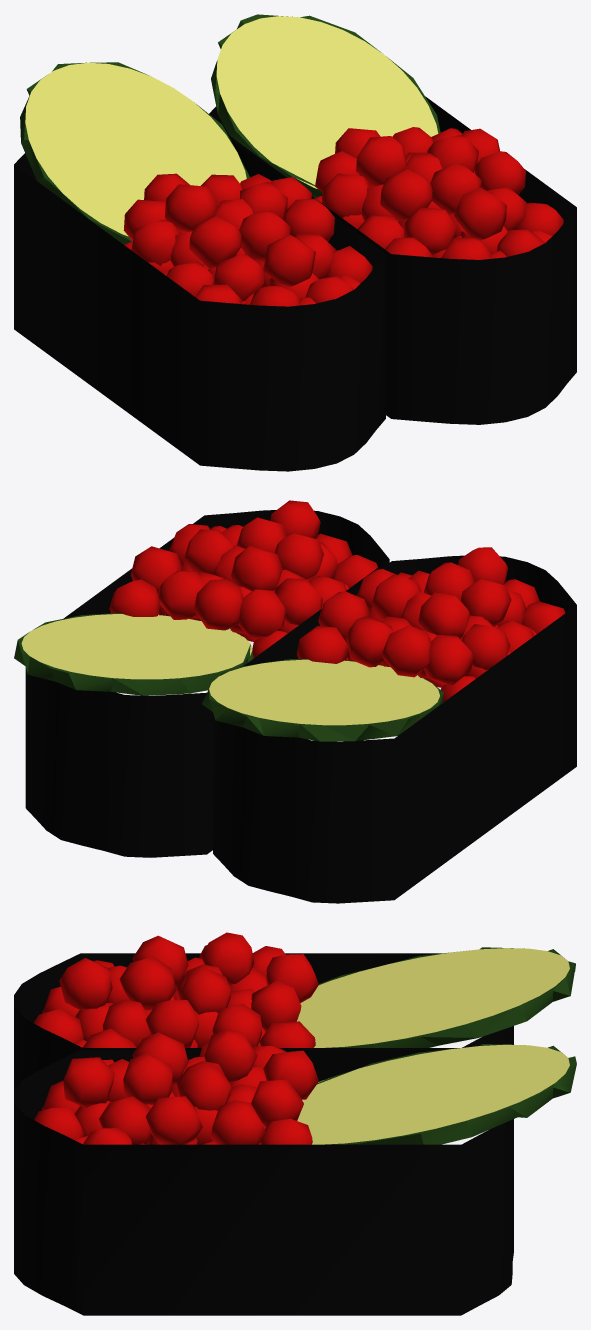
Rendered from ikura.fbx.
3 renders of one model, top to bottom at view 1: azimuth 30°, elevation 25°; view 2: azimuth 150°, elevation 25°; view 3: azimuth 270°, elevation 25°, orthographic. The views are drawn at different scales.
Visible parts, largest first — view 1: nori_1, nori_2, cucumber_1, cucumber_2, roe_79, cucumber_skin_2, roe_32, roe_45, roe_92, roe_46, roe_93, cucumber_skin_1 (+34 smaller); view 2: nori_1, nori_2, cucumber_1, cucumber_2, cucumber_skin_1, cucumber_skin_2, roe_89, roe_42, roe_44, roe_91, roe_93, roe_46 (+26 smaller); view 3: nori_2, cucumber_1, cucumber_2, nori_1, cucumber_skin_2, cucumber_skin_1, roe_85, roe_36, roe_32, roe_79, roe_83, roe_87 (+30 smaller).
Boxes of the visible parts, x1,y1,x2,y2 form: nori_1: (14, 141, 385, 471); nori_2: (209, 96, 576, 424); cucumber_1: (25, 62, 246, 236); cucumber_2: (216, 16, 438, 188); roe_79: (454, 187, 506, 240); cucumber_skin_2: (211, 14, 440, 197); roe_32: (263, 235, 315, 287); roe_45: (189, 216, 241, 267); roe_92: (380, 169, 432, 221); roe_46: (165, 184, 217, 232); roe_93: (356, 136, 406, 186); cucumber_skin_1: (20, 62, 249, 244); nori_1: (213, 555, 576, 903); nori_2: (25, 510, 389, 857); cucumber_1: (209, 659, 439, 725); cucumber_2: (21, 614, 252, 679); cucumber_skin_1: (201, 659, 443, 741); cucumber_skin_2: (14, 613, 253, 695); roe_89: (194, 579, 242, 630); roe_42: (381, 625, 431, 677); roe_44: (423, 635, 473, 685); roe_91: (238, 589, 286, 638); roe_93: (231, 546, 282, 590); roe_46: (418, 592, 470, 638); nori_2: (14, 1050, 513, 1315); cucumber_1: (297, 948, 569, 1047); cucumber_2: (297, 1044, 569, 1144); nori_1: (14, 953, 513, 1090); cucumber_skin_2: (317, 1044, 576, 1144); cucumber_skin_1: (319, 947, 575, 1047); roe_85: (145, 1096, 202, 1144); roe_36: (119, 956, 176, 1010); roe_32: (59, 958, 112, 1009); roe_79: (63, 1057, 114, 1107); roe_83: (123, 1053, 172, 1104); roe_87: (210, 1100, 265, 1144).
Bounding box in the file's own units: 4.14 × 2.27 × 5.16.
